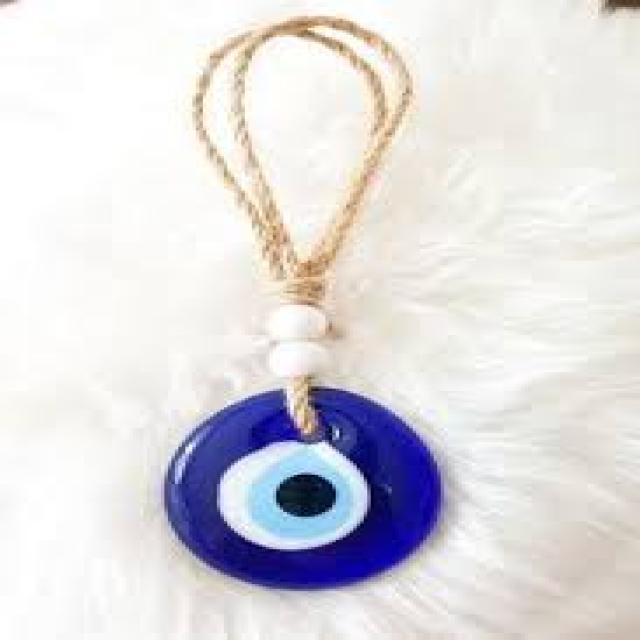Nazar-Boncugu: (161, 382, 444, 589)
